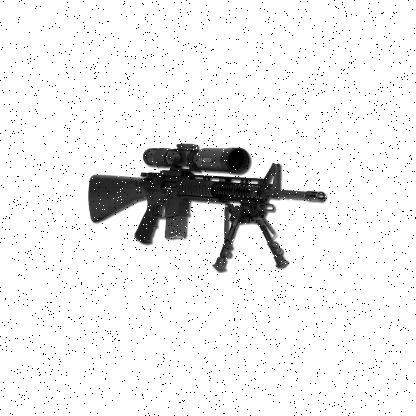gun: (88, 144, 340, 263)
